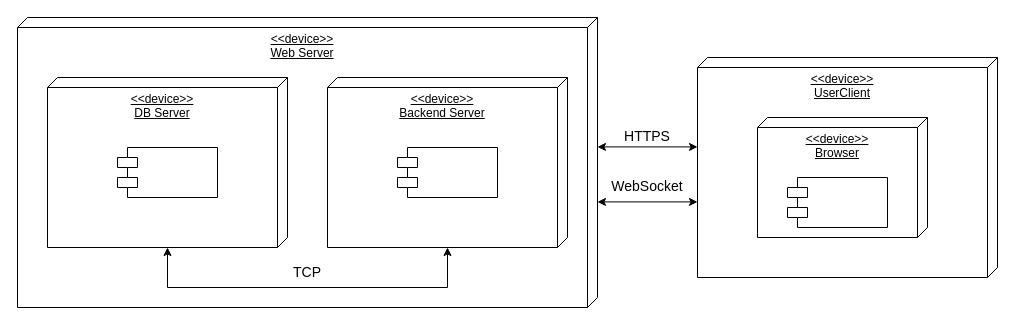
Image size: 1015x325. Some labels were removed from this diagram. The centre of each missing label's shape, as x and y in pixels:
"Express ORM Prisma" goes at pixel 447 172.
"PostgreSQL" goes at pixel 167 172.
"React frontend" goes at pixel 837 202.
